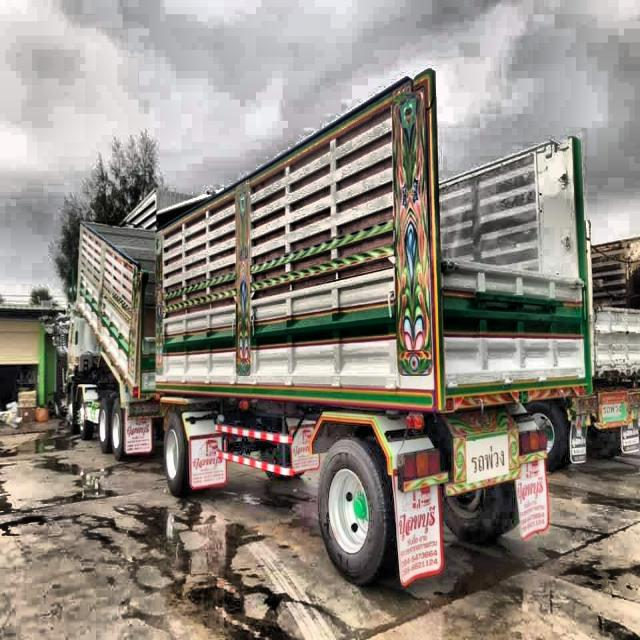trailer: (55, 73, 597, 584)
